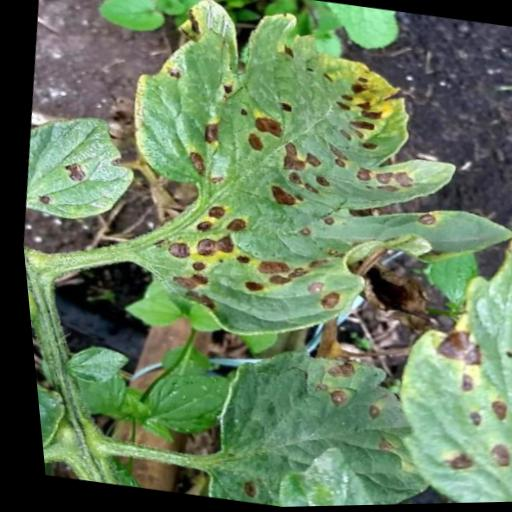Early Blight: (93, 0, 485, 366), (358, 198, 512, 506), (181, 333, 437, 509), (12, 106, 138, 229)
